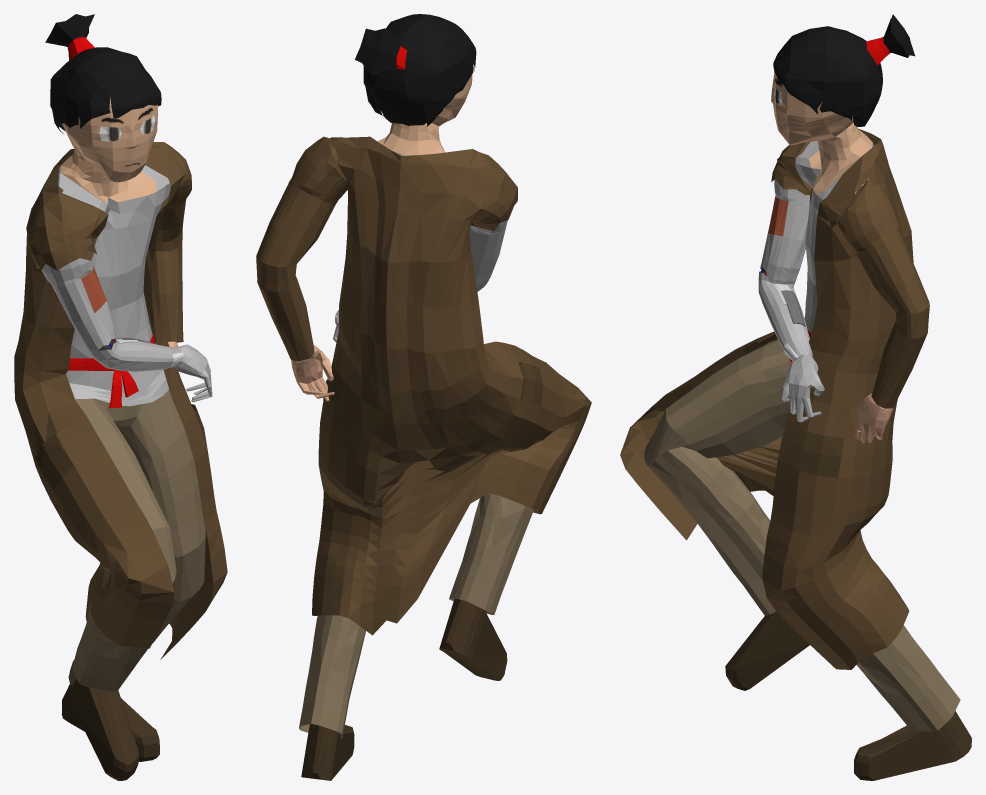
The model's file is One_RB_000004.obj.
3 views of the same model, side by side, from view 1: azimuth 30°, elevation 25°; view 2: azimuth 150°, elevation 25°; view 3: azimuth 270°, elevation 25° (orthographic). The views are drawn at different scales.
Parts seen in each view (by area): view 1: Hair_Cube.004; view 2: Hair_Cube.004; view 3: Hair_Cube.004.
Part boxes in pixels (bbox=[...]): Hair_Cube.004: bbox=[14, 14, 227, 780]; Hair_Cube.004: bbox=[256, 14, 591, 780]; Hair_Cube.004: bbox=[620, 14, 971, 780].
Bounding box in the file's own units: 1.08 × 3.73 × 1.63.
